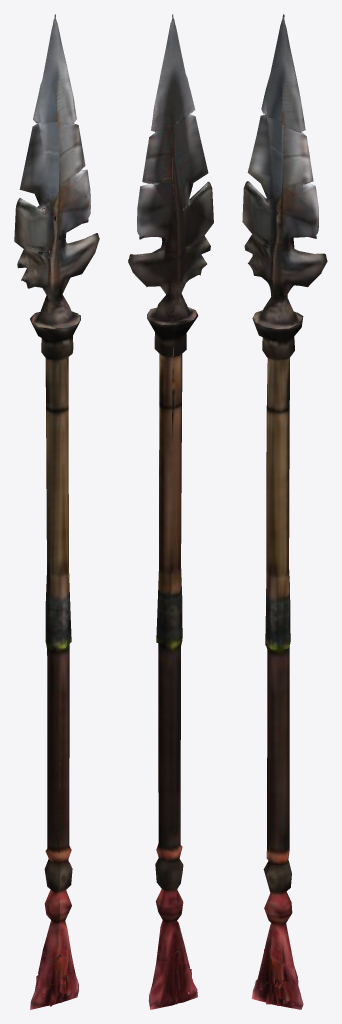
File: weapon_tombak_dayak.glb
The picture shows the model from 3 angles, left to right: view 1: azimuth 30°, elevation 25°; view 2: azimuth 210°, elevation 25°; view 3: azimuth 330°, elevation 25°; orthographic projection.
Visible parts, largest first — view 1: weapon_tombak_dayak; view 2: weapon_tombak_dayak; view 3: weapon_tombak_dayak.
Part boxes in pixels (<box>): weapon_tombak_dayak: <box>14,14,99,1009</box>; weapon_tombak_dayak: <box>128,14,213,1009</box>; weapon_tombak_dayak: <box>242,14,327,1009</box>.
Bounding box in the file's own units: 0.1803 × 2 × 0.0891.
Materials: 1 (1 with a texture image).
